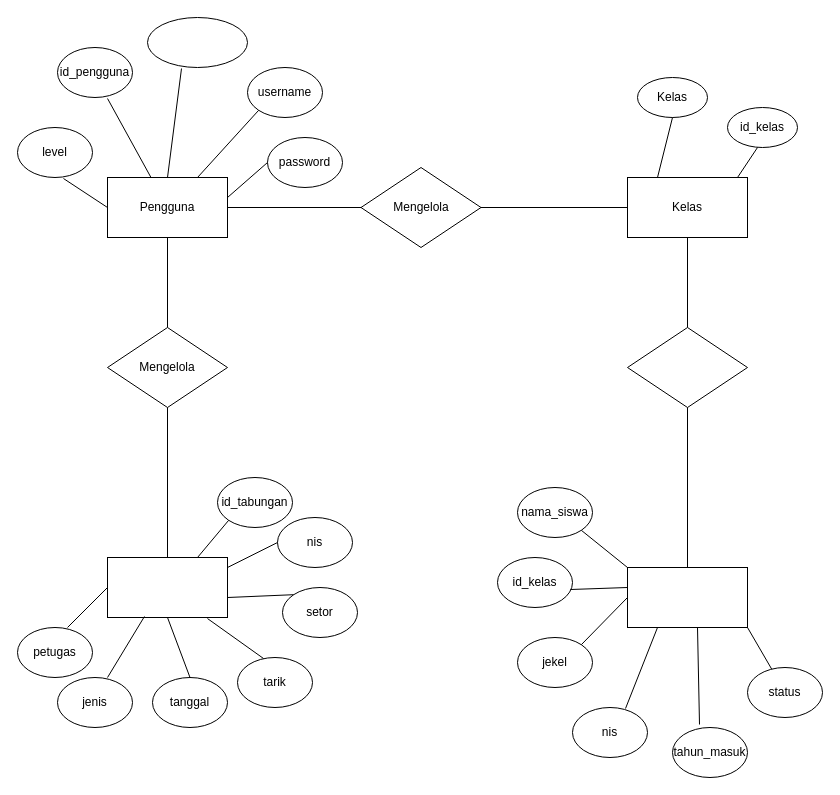
This 840x795 diagram has some shape labels left out. The box of each missing label's shape, as (x1, y1, x2, y2) in pixels:
Memiliki: (626, 326, 748, 408)
nama_pengguna: (146, 16, 248, 68)
Siswa: (626, 566, 748, 628)
Tabungan: (106, 556, 228, 618)
